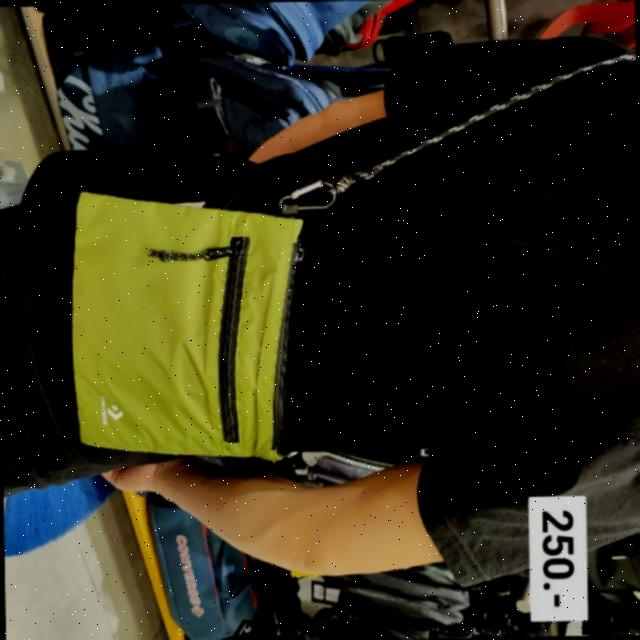Handbag: (57, 182, 318, 522)
